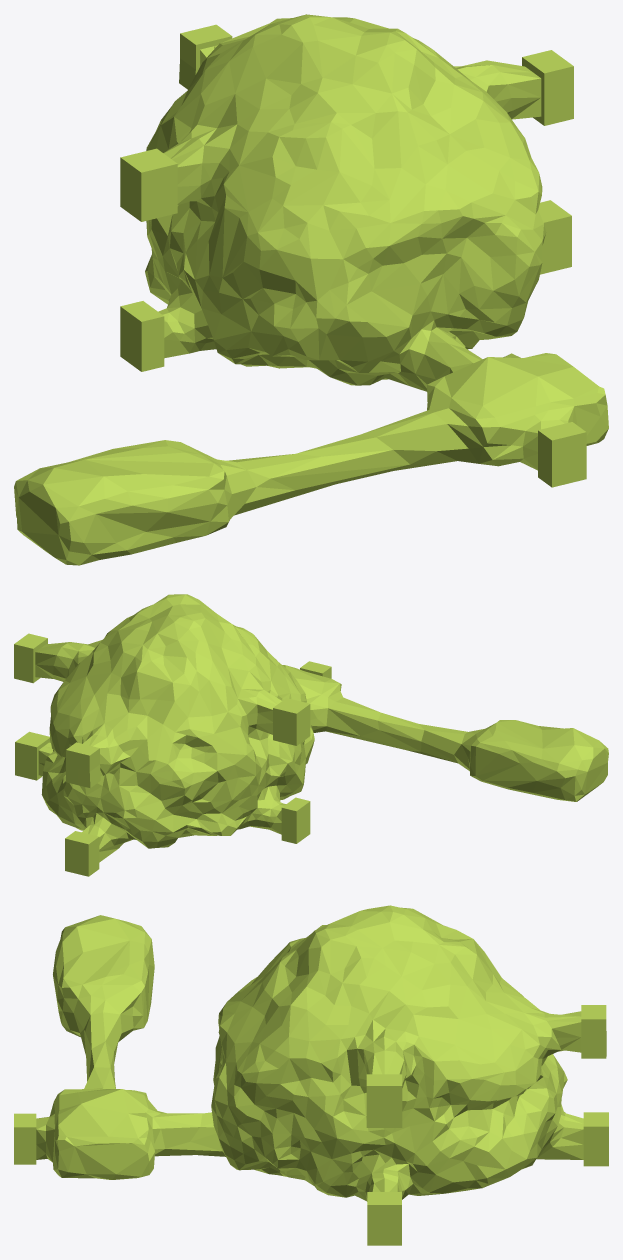
File: Treelevel_FejsyOdwrucone.fbx
3 views of the same model, one above another, from view 1: azimuth 30°, elevation 25°; view 2: azimuth 150°, elevation 25°; view 3: azimuth 270°, elevation 25° (orthographic). The views are drawn at different scales.
Parts seen in each view (by area): view 1: PoziomTestDeciamte; view 2: PoziomTestDeciamte; view 3: PoziomTestDeciamte.
Boxes of the visible parts, x1=… form: PoziomTestDeciamte: x1=14, y1=14, x2=608, y2=565; PoziomTestDeciamte: x1=14, y1=594, x2=608, y2=876; PoziomTestDeciamte: x1=14, y1=905, x2=608, y2=1245.
Bounding box in the file's own units: 13670 × 5535 × 12511.
